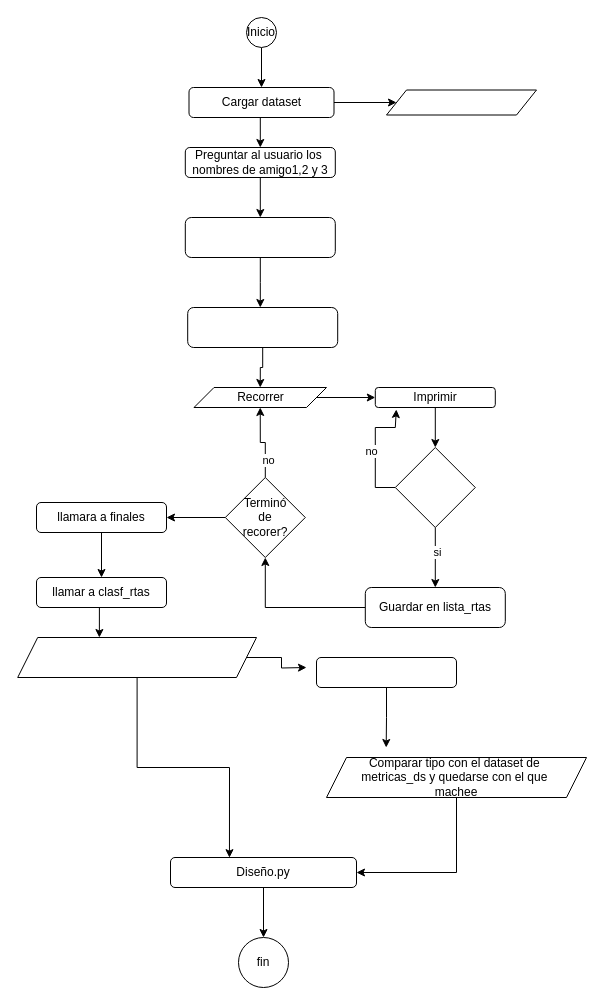
Image size: 604x1005. Some labels were removed from this diagram. Here are the shapes that lost their labels. From the top down, the box of each, then its label:
(386, 89, 536, 115): Filtrar_dataset.py
(184, 216, 335, 258): Cargar lista_historia
(187, 306, 338, 348): crear lista_rtas
(394, 446, 475, 528): Respuesta es valida ?
(17, 636, 256, 678): Buscar en el diccio_cont la clave con valor mas alto
(316, 656, 456, 688): Guardar
